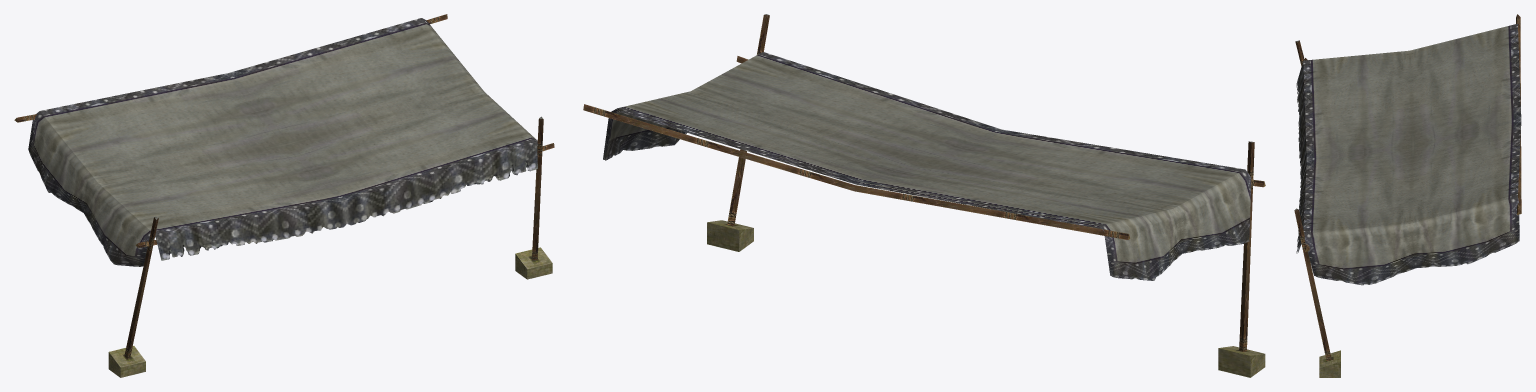
The model's file is wupeng_cl_60.FBX.
The picture shows the model from 3 angles, left to right: view 1: azimuth 30°, elevation 25°; view 2: azimuth 150°, elevation 25°; view 3: azimuth 270°, elevation 25°; orthographic projection. The views are drawn at different scales.
Visible parts, largest first — view 1: wupeng_cl_60; view 2: wupeng_cl_60; view 3: wupeng_cl_60.
Boxes of the visible parts, x1,y1,x2,y2 form: wupeng_cl_60: (14, 14, 554, 377); wupeng_cl_60: (583, 14, 1265, 377); wupeng_cl_60: (1294, 14, 1521, 377).
Bounding box in the file's own units: 1336 × 540 × 653.
